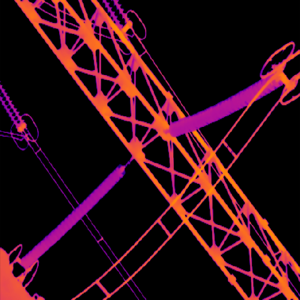insulator: (17, 163, 126, 269), (167, 65, 283, 138), (0, 82, 26, 130), (103, 0, 132, 33)
